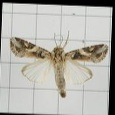Spodoptera litura: (7, 29, 107, 97)
